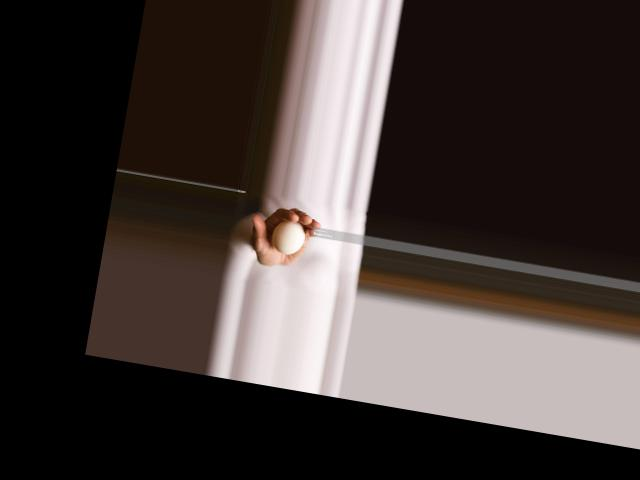egg: (269, 217, 307, 256)
